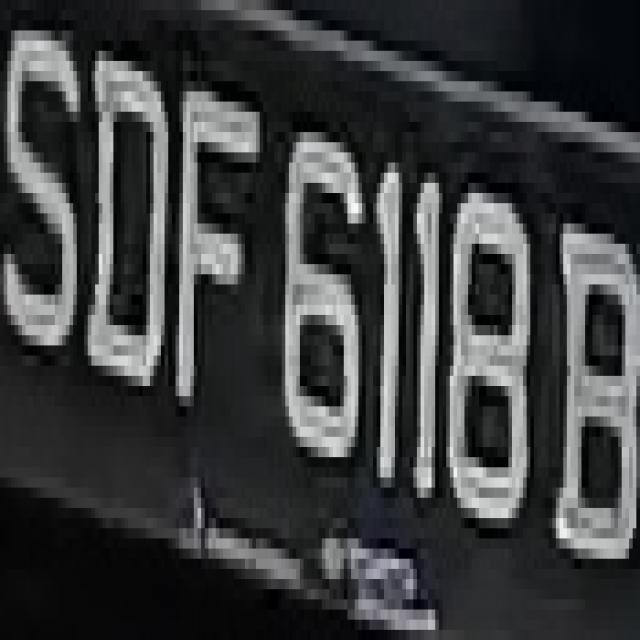1: (406, 142, 450, 549), (362, 101, 406, 498)
6: (278, 71, 358, 488)
8: (446, 142, 530, 538)
B: (545, 193, 640, 569)
D: (92, 31, 168, 386)
F: (165, 51, 263, 386)
S: (11, 10, 84, 366)
